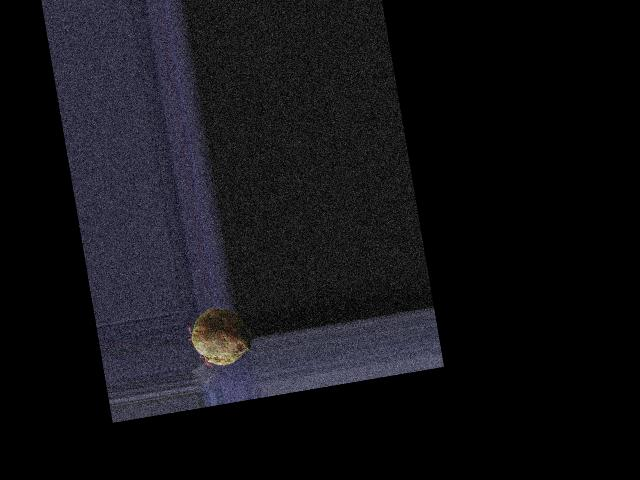beet: (185, 303, 255, 370)
